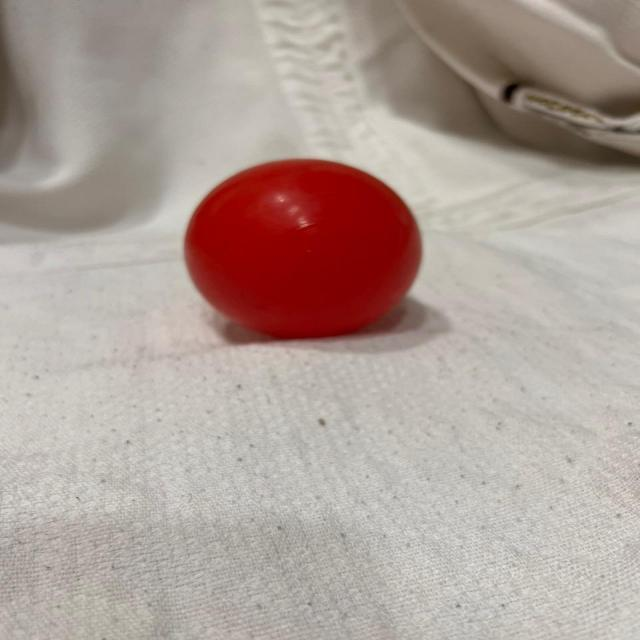ball: (180, 155, 428, 339)
